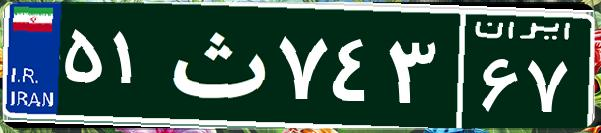1: (110, 28, 158, 105)
3: (385, 28, 445, 110)
4: (330, 28, 385, 110)
5: (57, 26, 110, 107)
6: (475, 38, 525, 113)
7: (273, 28, 330, 110), (525, 38, 570, 115)
ث: (158, 15, 273, 115)
